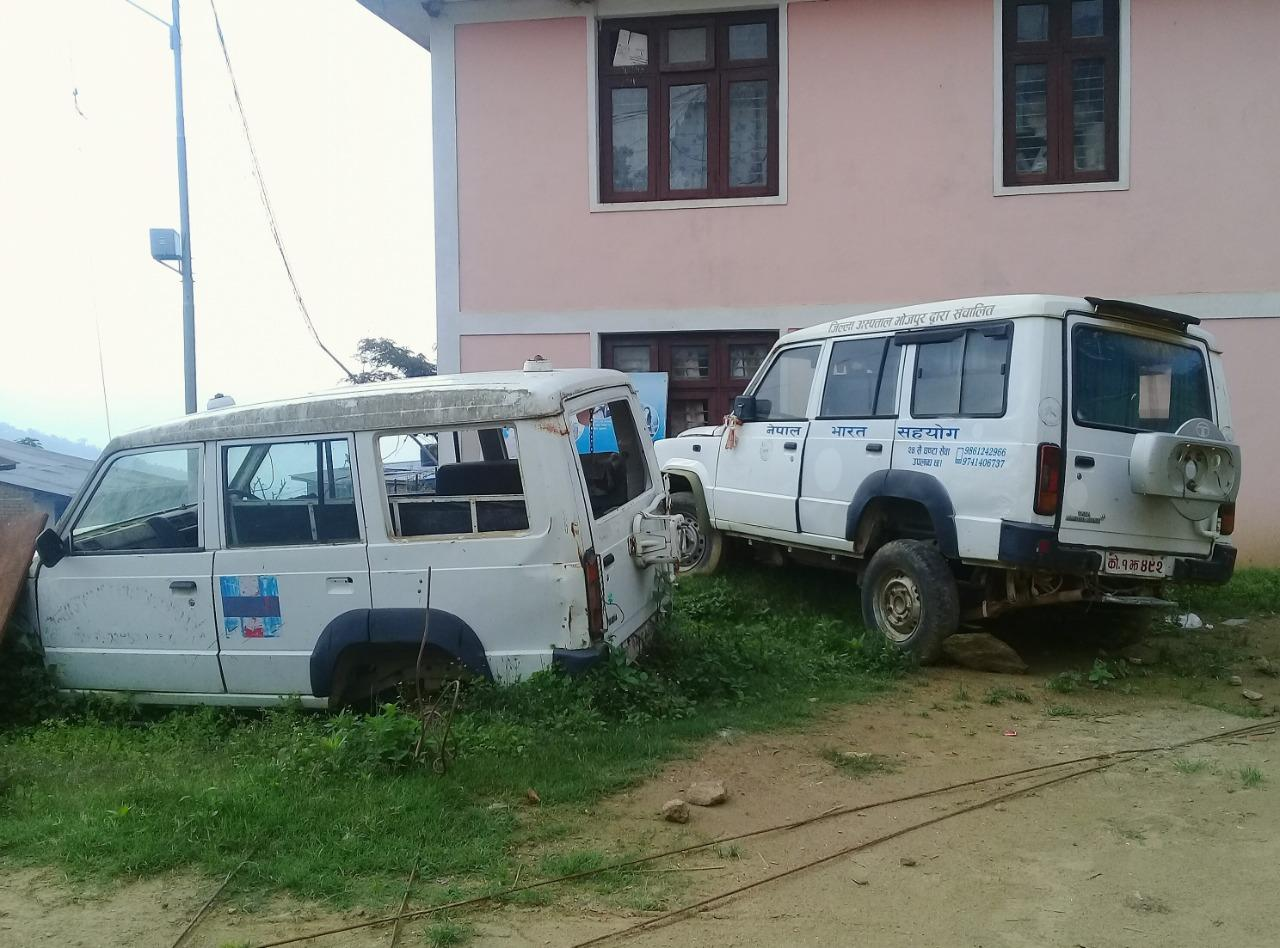ambulance: (0, 353, 689, 726), (660, 284, 1267, 679)
